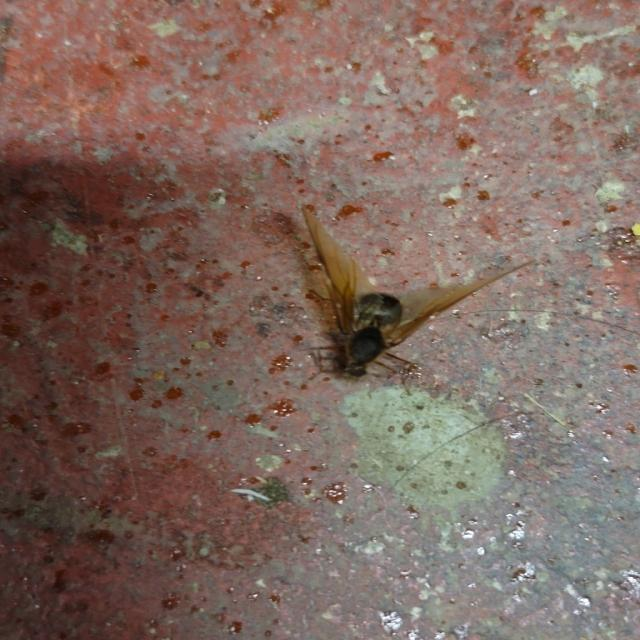Alive-Male-Alate: (301, 208, 536, 400)
